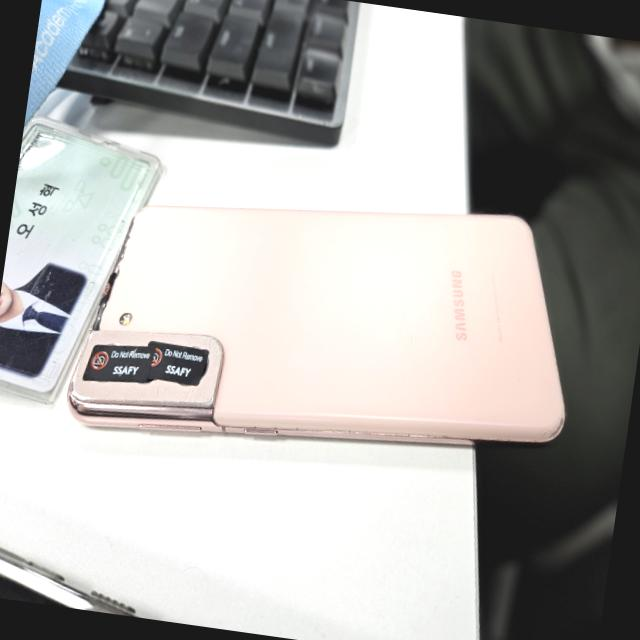phone: (65, 158, 591, 489)
sticker: (82, 338, 155, 390), (137, 340, 210, 388)
